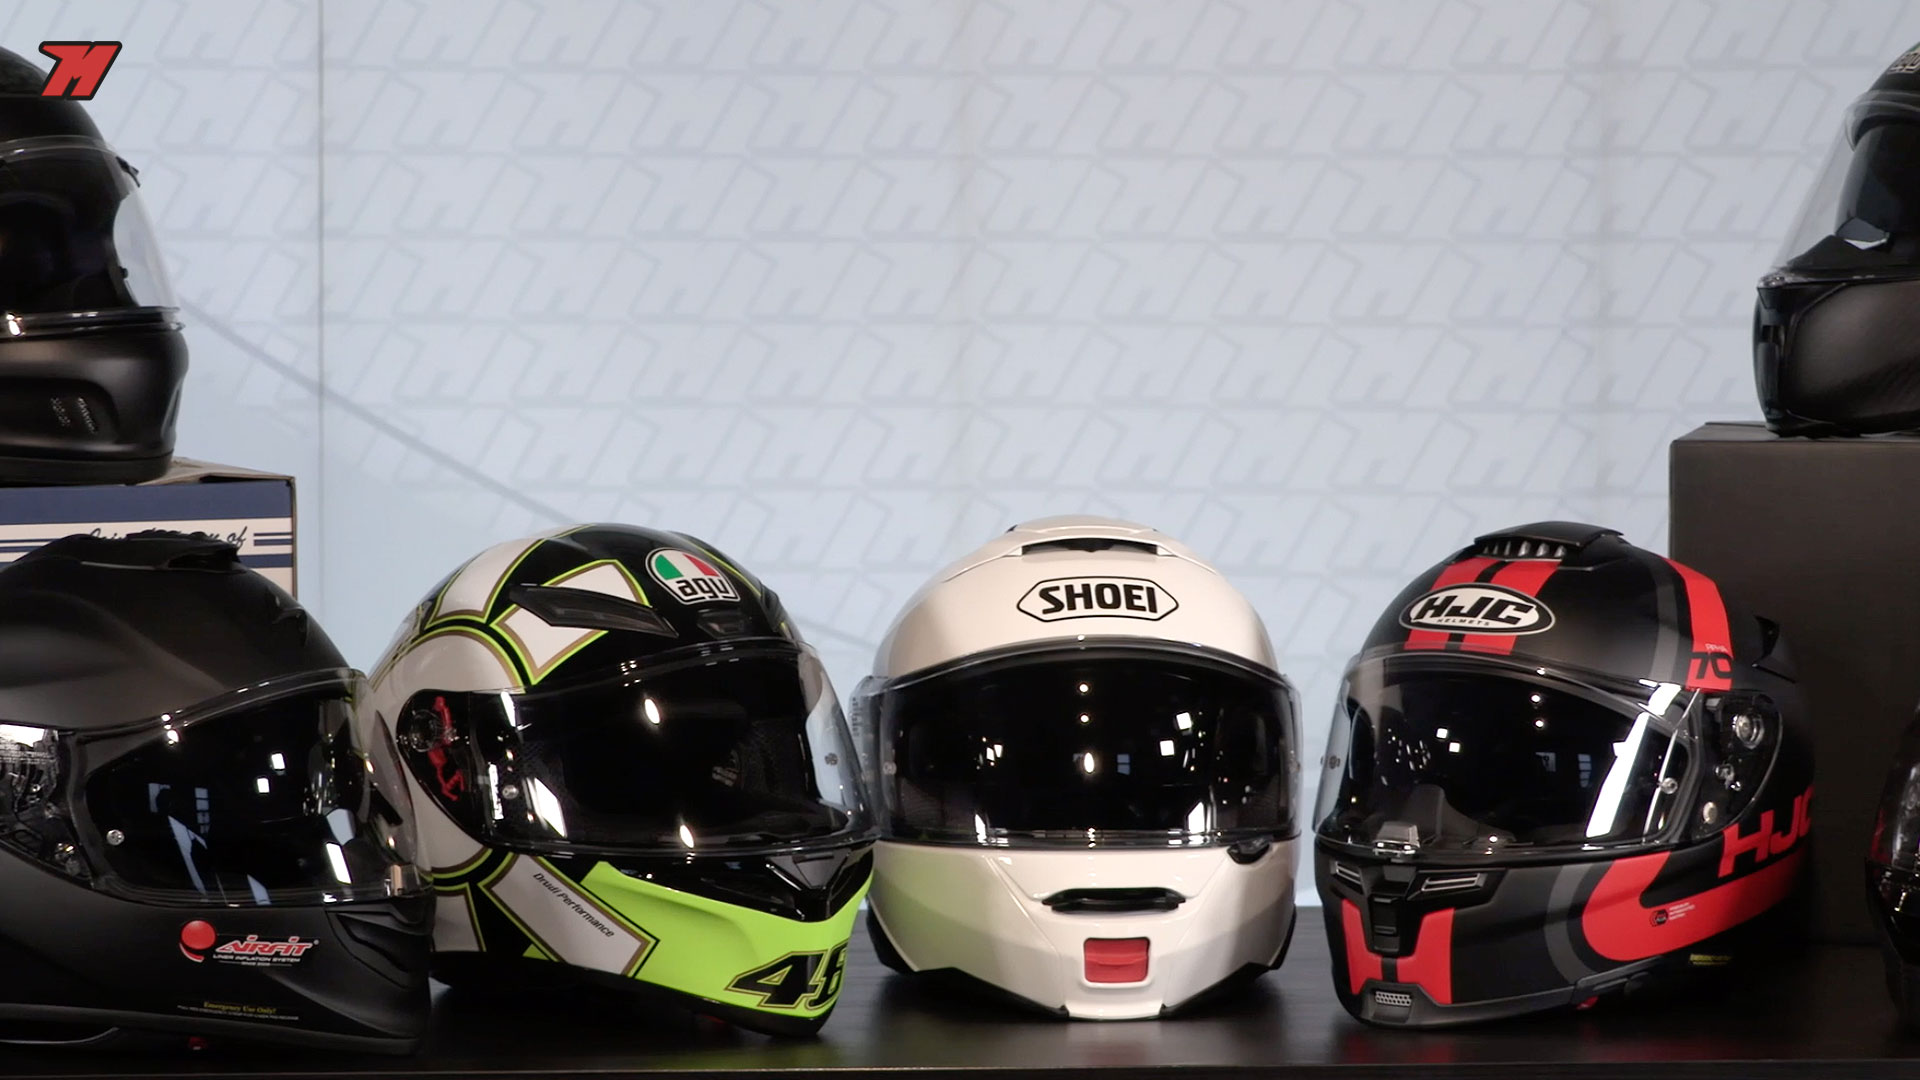with_helmet: (1309, 516, 1838, 1043), (373, 512, 880, 1048), (4, 502, 433, 1056), (857, 516, 1317, 1029)
